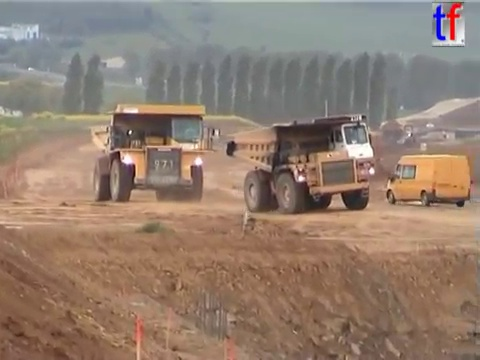truck: (223, 112, 377, 214), (87, 101, 222, 204), (380, 120, 403, 142)
